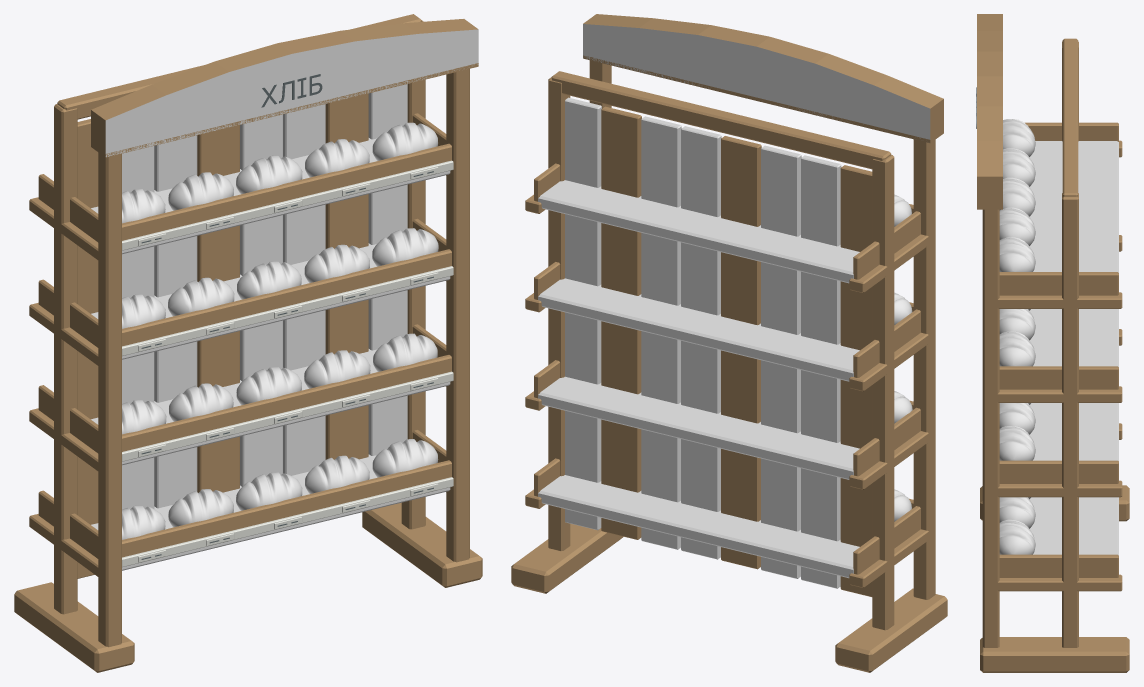
File: Shelf_Bread.fbx
The picture shows the model from 3 angles, left to right: view 1: azimuth 30°, elevation 25°; view 2: azimuth 150°, elevation 25°; view 3: azimuth 270°, elevation 25°; orthographic projection. The views are drawn at different scales.
Parts seen in each view (by area): view 1: Shelf_Bread__Back_bakery__LPCXFER, Shelf_Bread__LPCXFER, Shelf_Bread__Header_bakery__LPCXFER, Shelf_Bread__Shelf_2__LPCXFER, Shelf_Bread__Shelf_4__LPCXFER, Shelf_Bread__Shelf_1__LPCXFER, Shelf_Bread__Shelf_3__LPCXFER, Shelf_Bread_Item_1_F_3_bread__LPCXFER, Shelf_Bread_Item_3_F_2_bread__LPCXFER, Shelf_Bread_Item_2_F_4_bread__LPCXFER, Shelf_Bread_Item_3_F_5_bread__LPCXFER, Shelf_Bread_Item_4_F_3_bread__LPCXFER (+15 smaller); view 2: Shelf_Bread__Back_bakery__LPCXFER, Shelf_Bread__LPCXFER, Shelf_Bread__Header_bakery__LPCXFER, Shelf_Bread__Shelf_1__LPCXFER, Shelf_Bread__Shelf_4__LPCXFER, Shelf_Bread__Shelf_2__LPCXFER, Shelf_Bread__Shelf_3__LPCXFER; view 3: Shelf_Bread__LPCXFER, Shelf_Bread__Shelf_4__LPCXFER, Shelf_Bread__Shelf_3__LPCXFER, Shelf_Bread__Shelf_2__LPCXFER, Shelf_Bread__Shelf_1__LPCXFER, Shelf_Bread__Header_bakery__LPCXFER, Shelf_Bread_Item_3_F_5_bread__LPCXFER, Shelf_Bread_Item_2_F_5_bread__LPCXFER, Shelf_Bread_Item_1_F_5_bread__LPCXFER, Shelf_Bread_Item_4_F_5_bread__LPCXFER, Shelf_Bread_Item_4_F_4_bread__LPCXFER, Shelf_Bread_Item_4_F_3_bread__LPCXFER (+5 smaller).
Part boxes in pixels (x1=…): Shelf_Bread__Back_bakery__LPCXFER: x1=77, y1=84, x2=407, y2=578; Shelf_Bread__LPCXFER: x1=14, y1=14, x2=482, y2=672; Shelf_Bread__Header_bakery__LPCXFER: x1=91, y1=19, x2=478, y2=157; Shelf_Bread__Shelf_2__LPCXFER: x1=38, y1=324, x2=453, y2=465; Shelf_Bread__Shelf_4__LPCXFER: x1=38, y1=113, x2=453, y2=254; Shelf_Bread__Shelf_1__LPCXFER: x1=38, y1=430, x2=453, y2=570; Shelf_Bread__Shelf_3__LPCXFER: x1=38, y1=218, x2=453, y2=359; Shelf_Bread_Item_1_F_3_bread__LPCXFER: x1=236, y1=472, x2=302, y2=510; Shelf_Bread_Item_3_F_2_bread__LPCXFER: x1=168, y1=277, x2=234, y2=316; Shelf_Bread_Item_2_F_4_bread__LPCXFER: x1=304, y1=350, x2=370, y2=388; Shelf_Bread_Item_3_F_5_bread__LPCXFER: x1=372, y1=228, x2=438, y2=266; Shelf_Bread_Item_4_F_3_bread__LPCXFER: x1=236, y1=155, x2=302, y2=194; Shelf_Bread__Back_bakery__LPCXFER: x1=565, y1=97, x2=872, y2=596; Shelf_Bread__LPCXFER: x1=511, y1=60, x2=947, y2=672; Shelf_Bread__Header_bakery__LPCXFER: x1=583, y1=14, x2=943, y2=143; Shelf_Bread__Shelf_1__LPCXFER: x1=534, y1=458, x2=920, y2=578; Shelf_Bread__Shelf_4__LPCXFER: x1=534, y1=163, x2=920, y2=283; Shelf_Bread__Shelf_2__LPCXFER: x1=534, y1=360, x2=920, y2=479; Shelf_Bread__Shelf_3__LPCXFER: x1=534, y1=262, x2=920, y2=381; Shelf_Bread__LPCXFER: x1=980, y1=38, x2=1129, y2=672; Shelf_Bread__Shelf_4__LPCXFER: x1=999, y1=122, x2=1118, y2=295; Shelf_Bread__Shelf_3__LPCXFER: x1=999, y1=309, x2=1118, y2=389; Shelf_Bread__Shelf_2__LPCXFER: x1=999, y1=403, x2=1118, y2=483; Shelf_Bread__Shelf_1__LPCXFER: x1=999, y1=497, x2=1118, y2=577; Shelf_Bread__Header_bakery__LPCXFER: x1=977, y1=14, x2=1002, y2=209; Shelf_Bread_Item_3_F_5_bread__LPCXFER: x1=999, y1=331, x2=1035, y2=366; Shelf_Bread_Item_2_F_5_bread__LPCXFER: x1=999, y1=426, x2=1035, y2=460; Shelf_Bread_Item_1_F_5_bread__LPCXFER: x1=999, y1=519, x2=1035, y2=554; Shelf_Bread_Item_4_F_5_bread__LPCXFER: x1=999, y1=237, x2=1035, y2=271; Shelf_Bread_Item_4_F_4_bread__LPCXFER: x1=999, y1=207, x2=1035, y2=245; Shelf_Bread_Item_4_F_3_bread__LPCXFER: x1=999, y1=177, x2=1035, y2=216.
Bounding box in the file's own units: 154 × 218 × 58.9.
